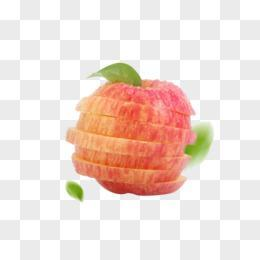apple: (65, 68, 209, 194)
